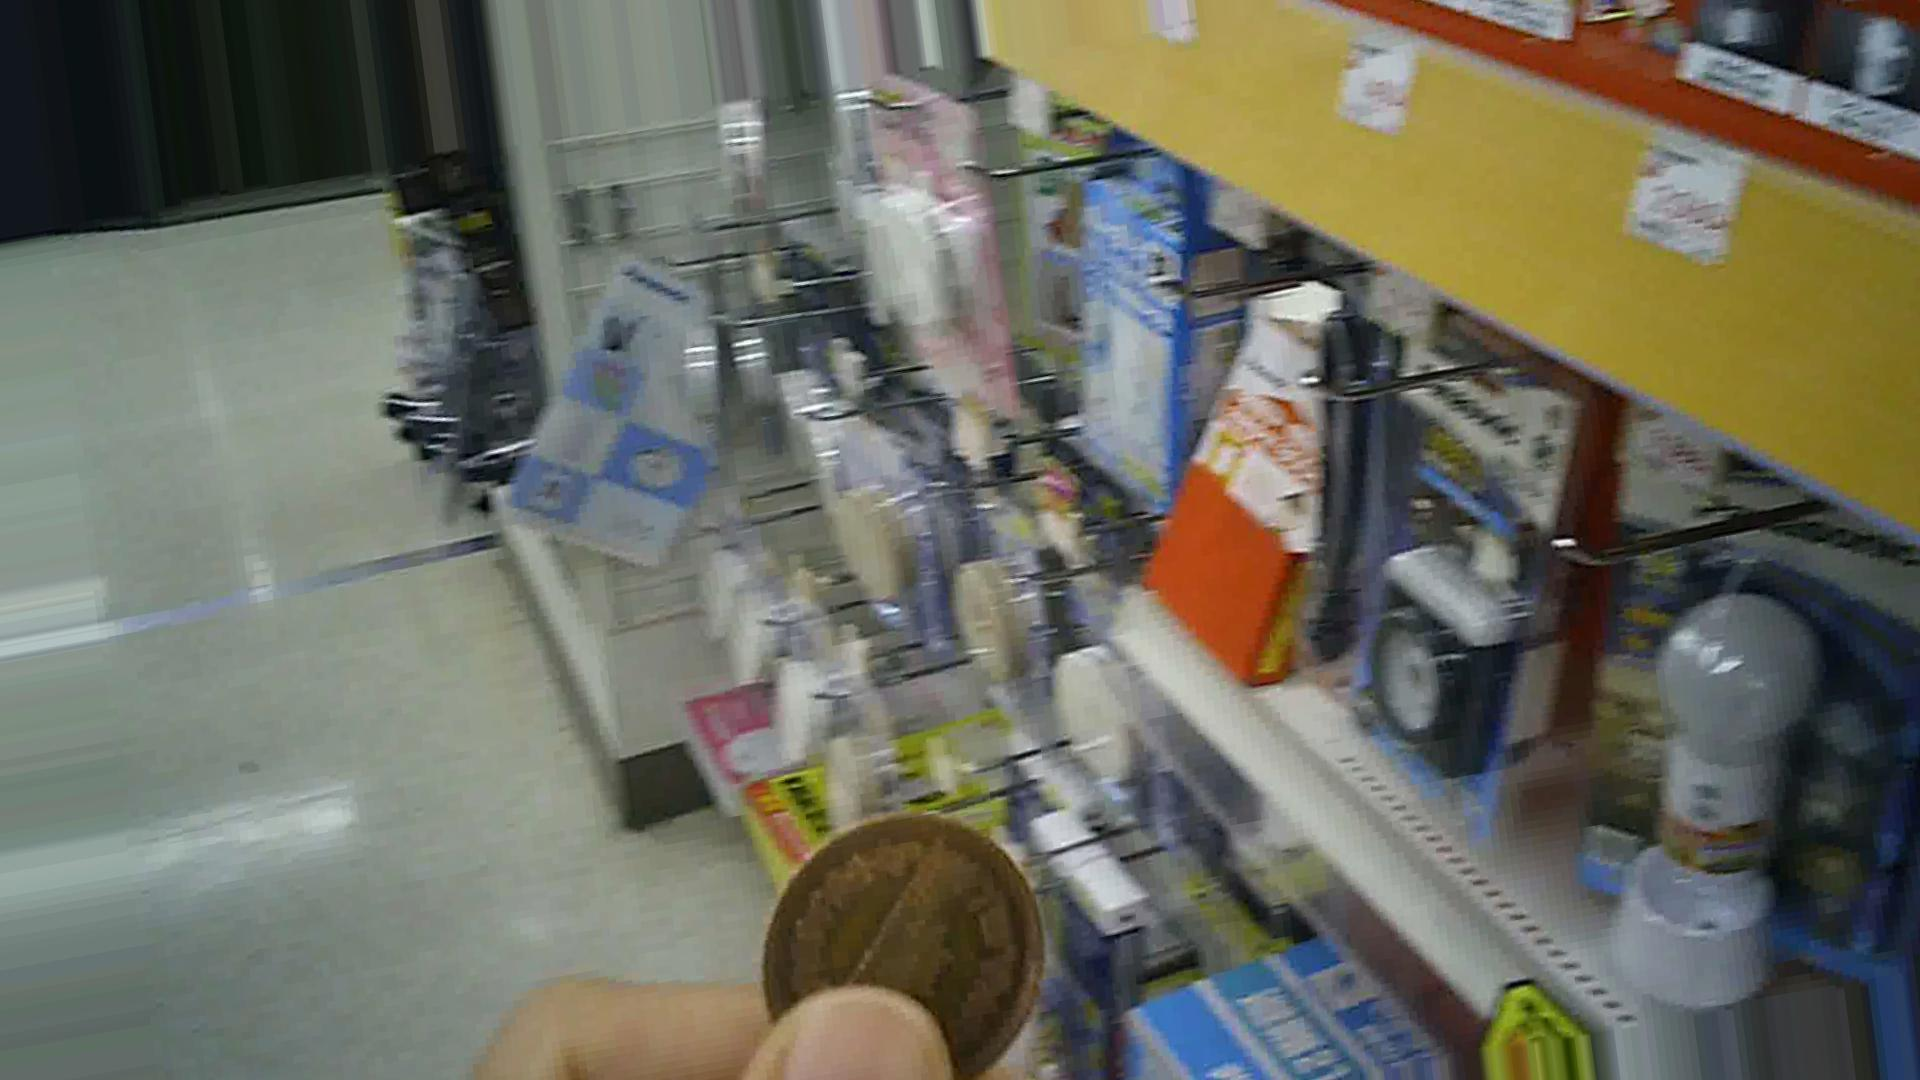10 Yen: (740, 812, 1038, 1060)
